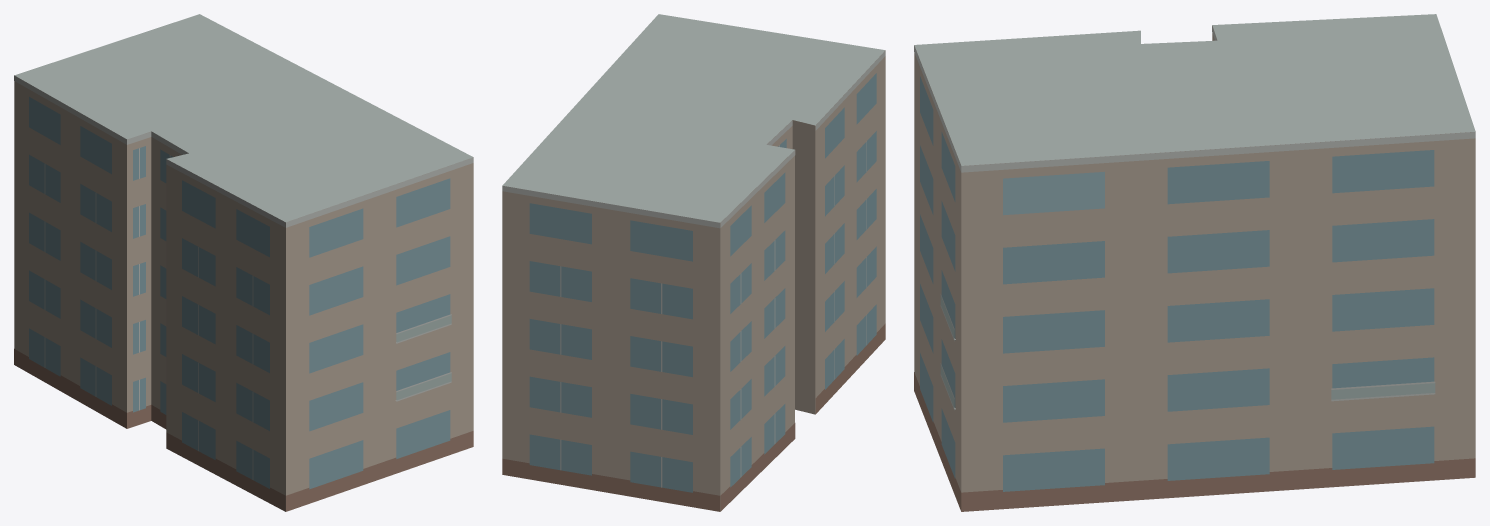
Rendered from survey-upis-32961295.glb.
3 renders of one model, left to right at view 1: azimuth 30°, elevation 25°; view 2: azimuth 150°, elevation 25°; view 3: azimuth 270°, elevation 25°, orthographic. The views are drawn at different scales.
Visible parts, largest first — view 1: survey-upis-32961295.tmp; view 2: survey-upis-32961295.tmp; view 3: survey-upis-32961295.tmp.
Part boxes in pixels (x1,y1,x2,y2): survey-upis-32961295.tmp: (14, 14, 473, 511); survey-upis-32961295.tmp: (502, 14, 885, 511); survey-upis-32961295.tmp: (914, 14, 1475, 511).
Size of the model in its own units: 11.98 by 12.7 by 18.7.
